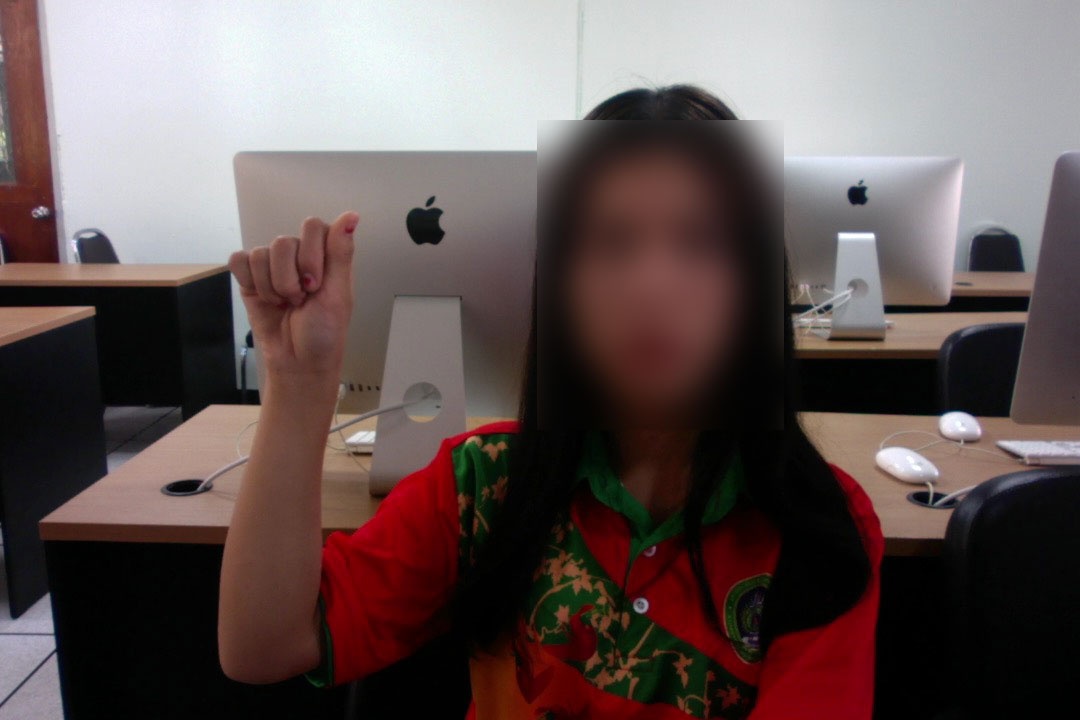or: (222, 204, 371, 383)
